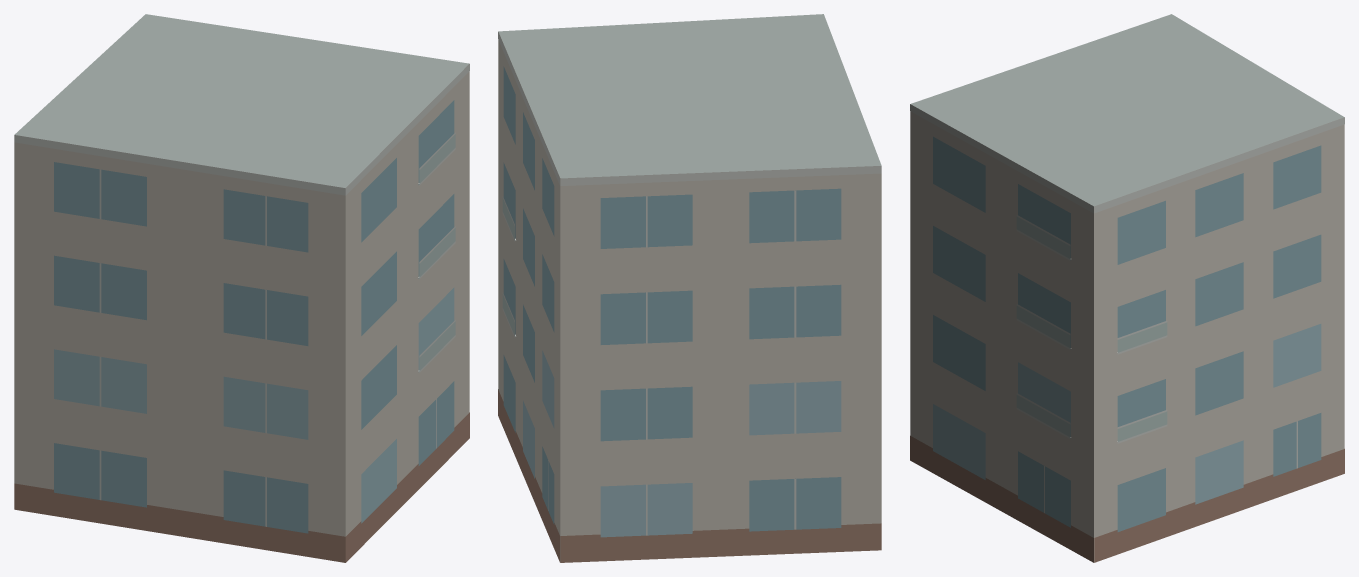
File: survey-upis-32844852.glb
3 views of the same model, side by side, from view 1: azimuth 30°, elevation 25°; view 2: azimuth 150°, elevation 25°; view 3: azimuth 270°, elevation 25° (orthographic). The views are drawn at different scales.
Parts seen in each view (by area): view 1: survey-upis-32844852.tmp; view 2: survey-upis-32844852.tmp; view 3: survey-upis-32844852.tmp.
Part boxes in pixels (x1,y1,x2,y2): survey-upis-32844852.tmp: (14,14,469,562); survey-upis-32844852.tmp: (498,14,881,562); survey-upis-32844852.tmp: (910,14,1344,562).
Size of the model in its own units: 14.13 by 12.2 by 13.49.
